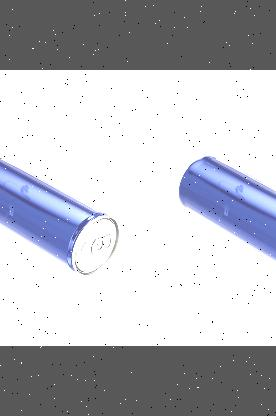Can: (0, 157, 118, 276), (178, 156, 276, 264)
